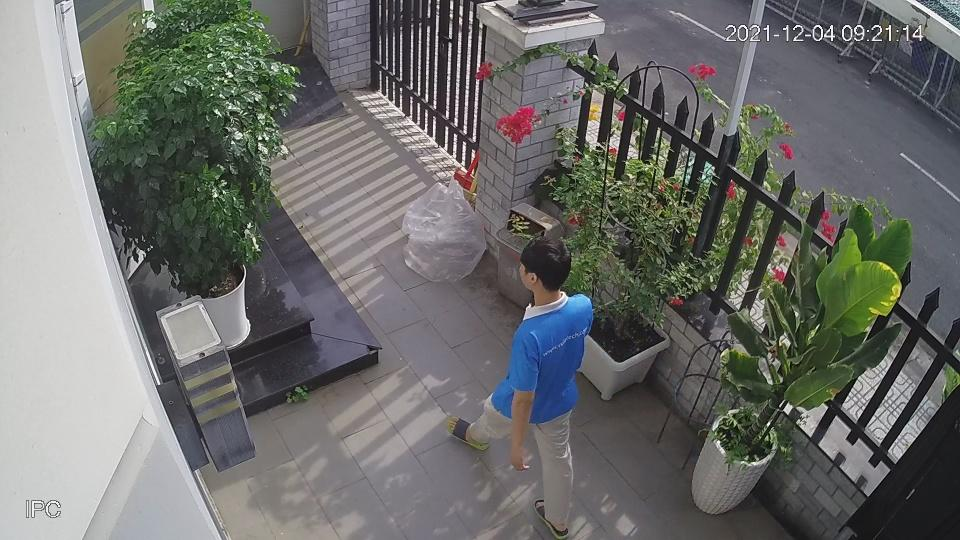person: (446, 234, 592, 535)
